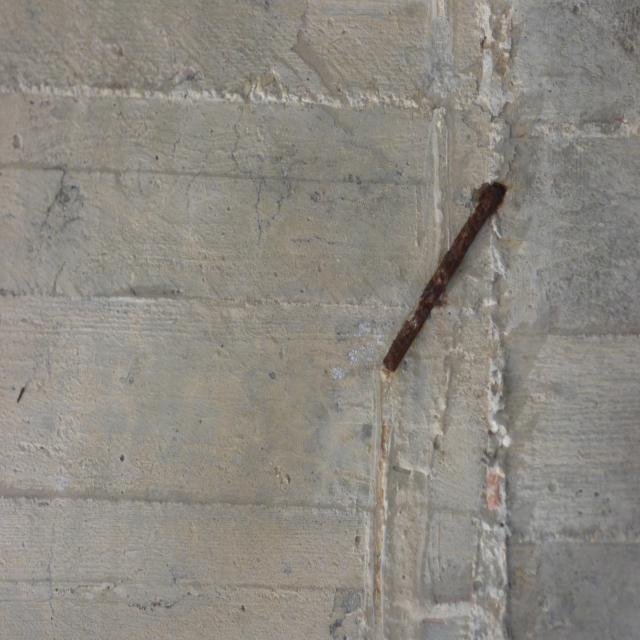corrosion: (370, 164, 524, 378)
